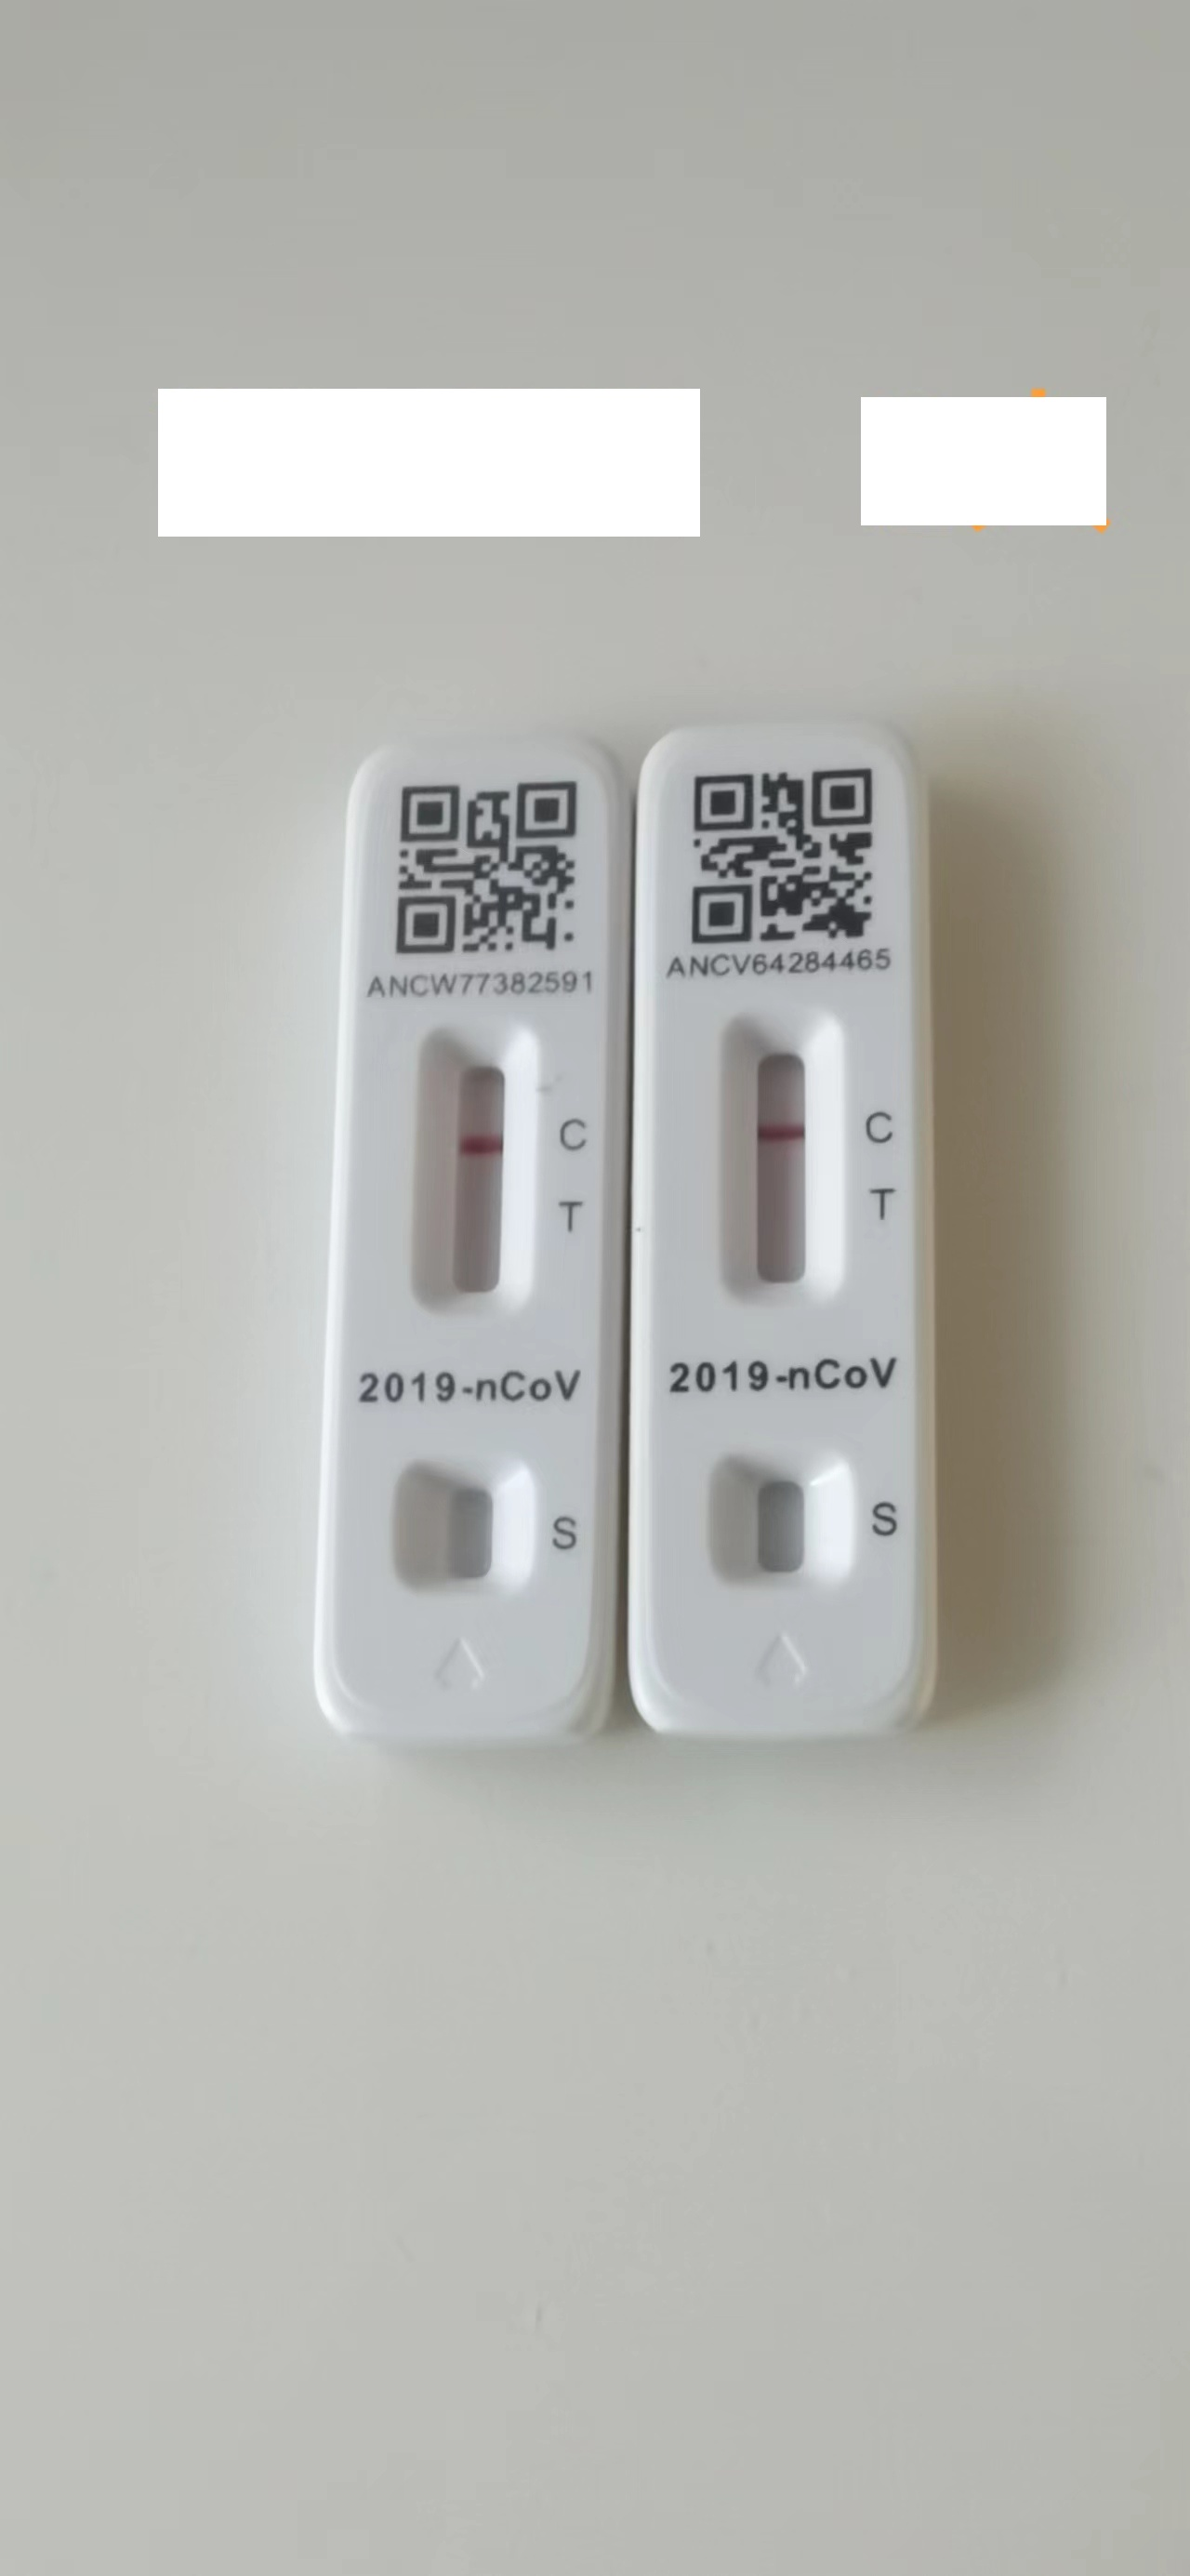negative: (717, 1023, 834, 1301), (414, 1038, 527, 1311)
